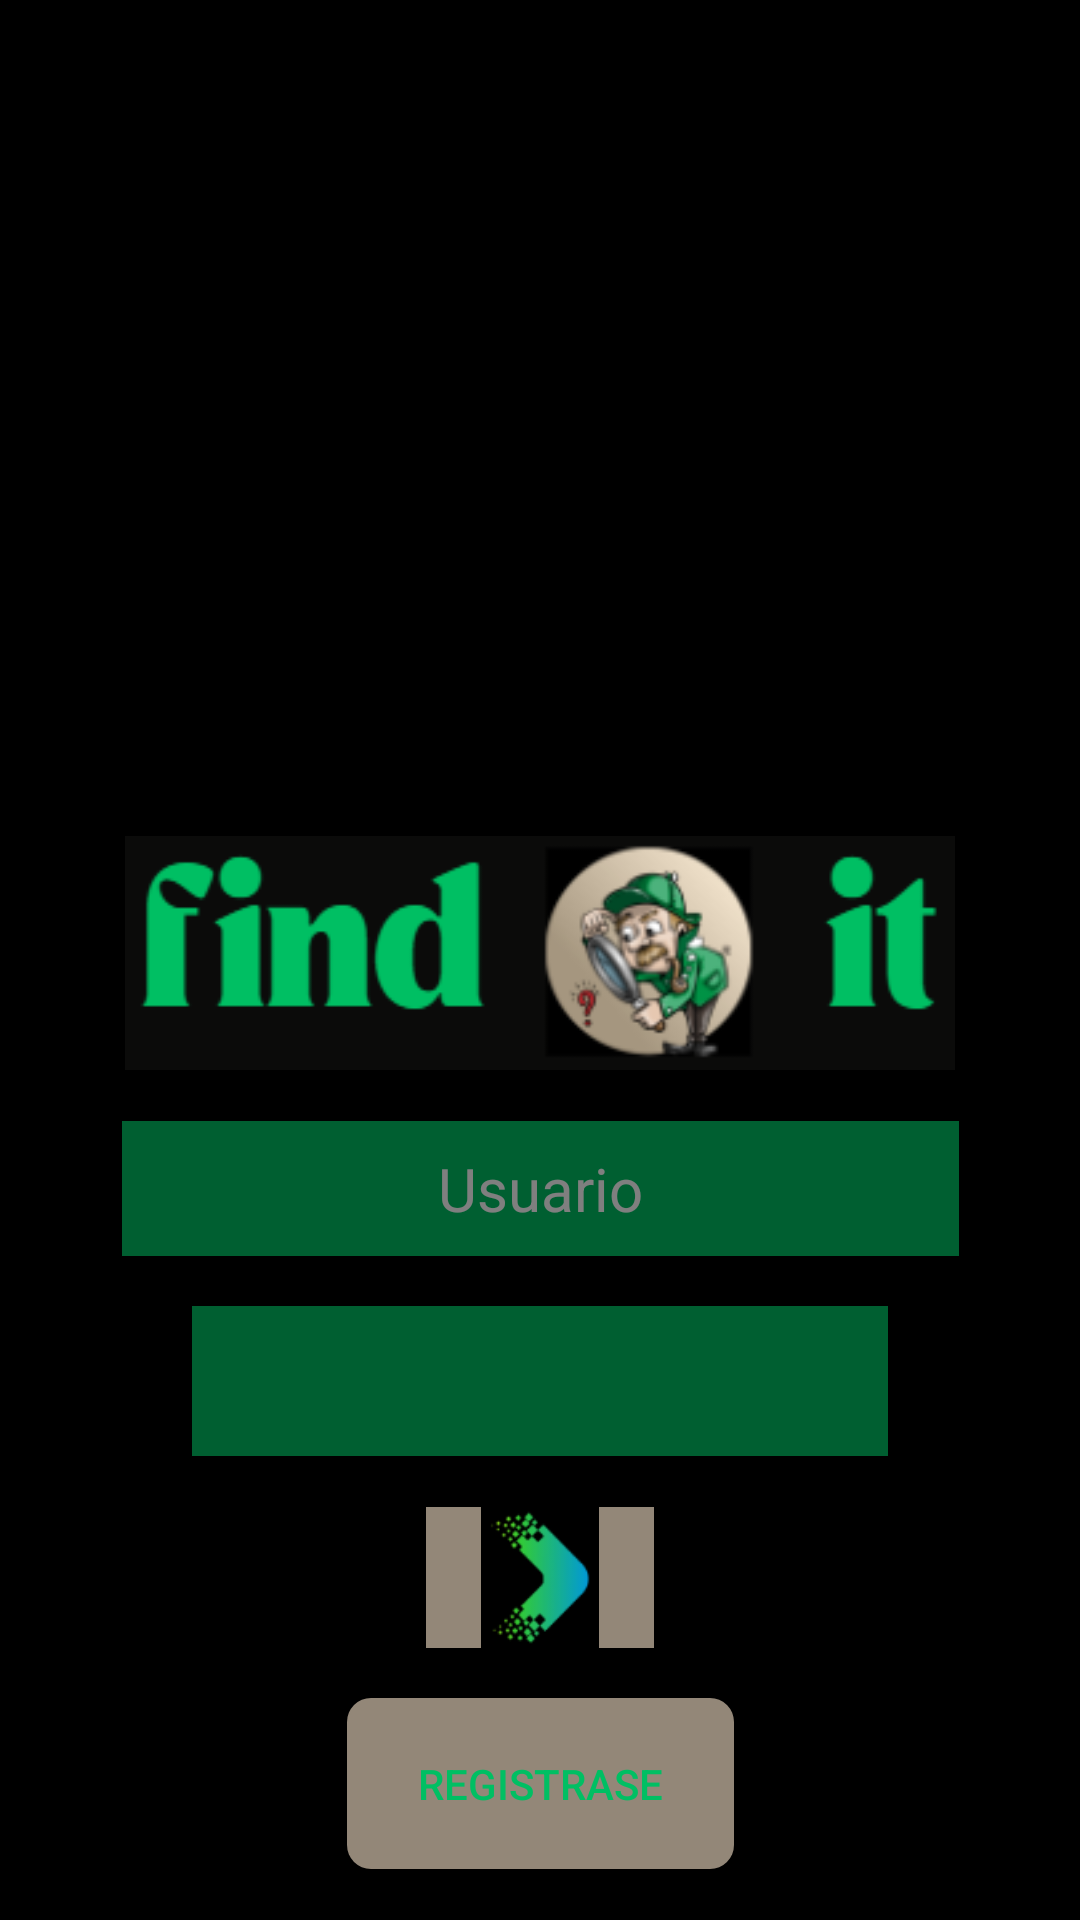

Screen size 1080*1920. Icon name, then its box in pixels as [x1=x1, y1=y1, x2=x2, y2=y2]:
flecha: [x1=426, y1=1507, x2=654, y2=1648]
